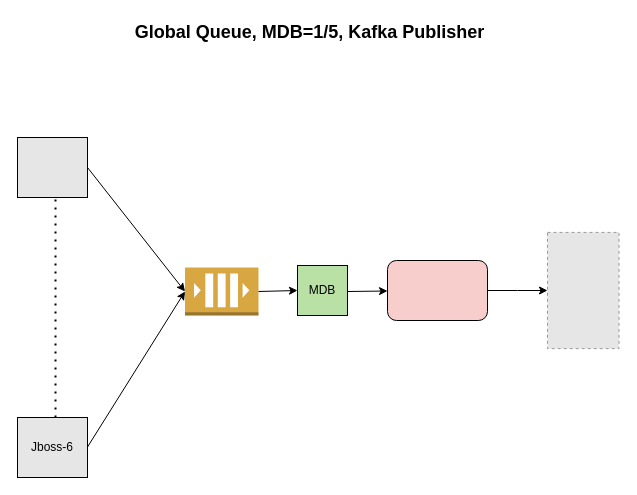
This 637x495 diagram has some shape labels left out. Grey dashed boxes stand in for pictures. Each missing label, with the box of its shape:
Jboss-1: (16, 136, 88, 198)
Kafka Publisher: (386, 260, 488, 320)
